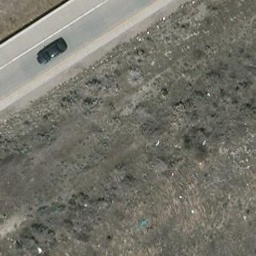car: (37, 39, 68, 67)
